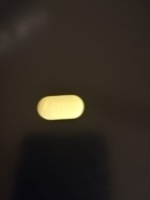Aferin: (35, 94, 86, 121)
